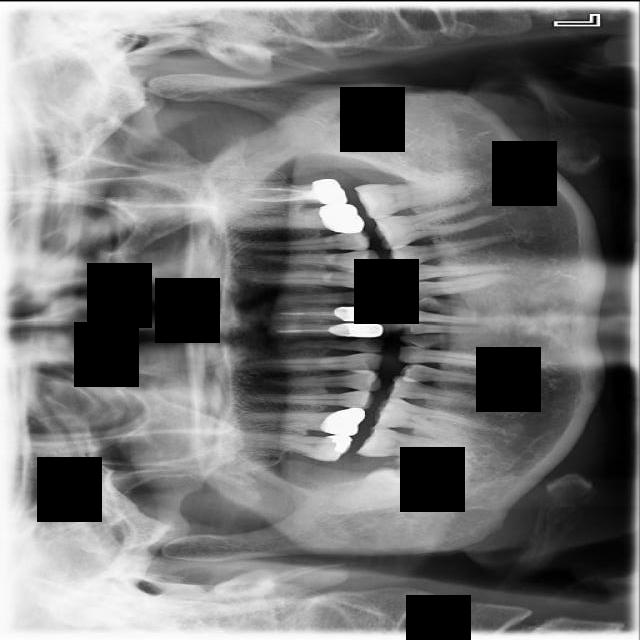52: (301, 430, 358, 466), (318, 204, 364, 233), (320, 406, 365, 435), (311, 177, 348, 204), (329, 322, 382, 337), (333, 306, 383, 321)
73: (240, 183, 321, 205), (271, 306, 343, 324), (272, 324, 337, 337), (597, 105, 607, 108)
BioHorizons Implant: (239, 178, 347, 203)
Blue Sky Bio Implant: (354, 172, 468, 220)
Caries: (224, 431, 353, 462)
Implant: (356, 423, 472, 467)
Keystone Dental Implant: (330, 457, 432, 511)
